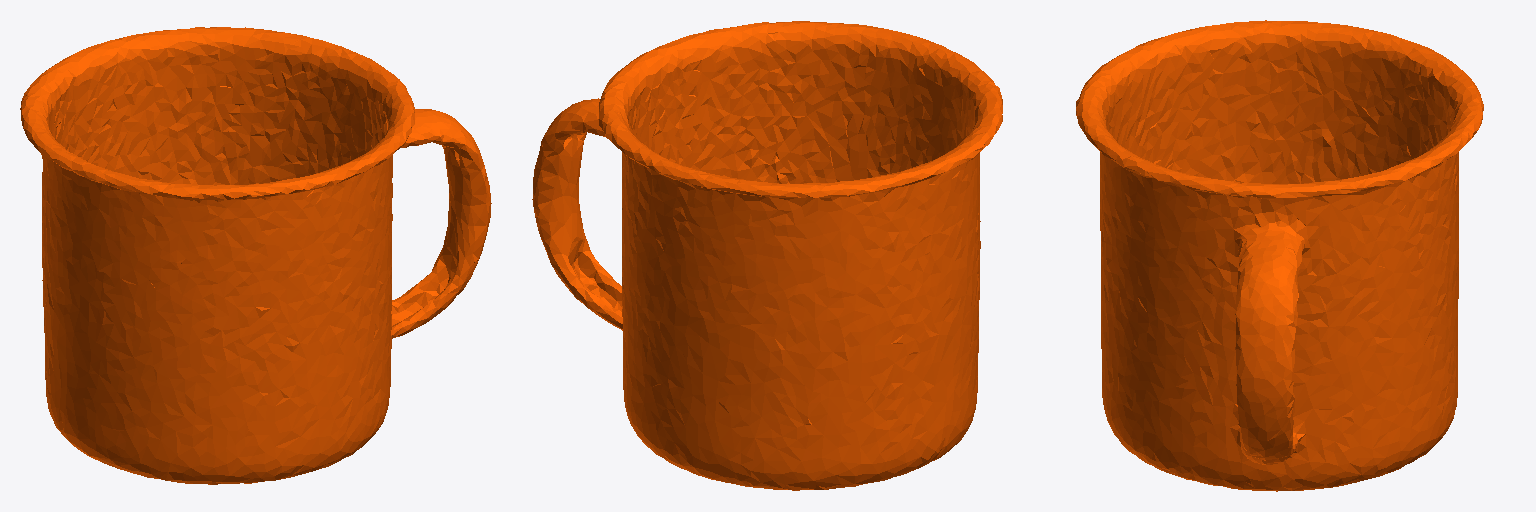
URDF robot description (025_mug):
<?xml version="1.0" ?>
<robot name="025_mug">
   <material name="obj_color">
      <color rgba="1.0 0.423529411765 0.0392156862745 1.0"/>
   </material>
   <link name="top">
      <inertial>
         <origin rpy="0.0002328385352406935 0.0002647386469000025 0.0003388049950386057" xyz="-0.00261733637166038 0.0002863123120637334 -0.01002002822162792"/>
         <mass value="0.270717058661248"/>
         <inertia ixx="0.0002332991407765116" ixy="1.474832763521387e-06" ixz="-6.660118659826137e-06" iyy="0.0002651635701484743" iyz="-5.758515414313419e-06" izz="0.0003379194662543158"/>
      </inertial>
      <visual>
         <origin rpy="0 0 0" xyz="0 0 0"/>
         <geometry>
            <mesh filename="top_watertight_tiny.stl" scale="1 1 1"/>
         </geometry>
         <material name="obj_color"/>
      </visual>
      <collision>
         <origin rpy="0 0 0" xyz="0 0 0"/>
         <geometry>
            <mesh filename="top_watertight_tiny.obj" scale="1 1 1"/>
         </geometry>
      </collision>
   </link>
   <link name="bottom">
      <inertial>
         <origin rpy="1.633333333199431e-08 1.633333333199431e-08 1.633333333362855e-08" xyz="0.3464080000000008 0.3464080000000008 0.3464080000000008"/>
         <mass value="0.0009800000000000017"/>
         <inertia ixx="1.633333333253906e-08" ixy="5.447480642029219e-19" ixz="5.447480642029219e-19" iyy="1.633333333253906e-08" iyz="5.447480642029219e-19" izz="1.633333333253906e-08"/>
      </inertial>
      <visual>
         <origin rpy="0 0 0" xyz="0 0 0"/>
         <geometry>
            <mesh filename="bottom_watertight_tiny.stl" scale="1 1 1"/>
         </geometry>
         <material name="obj_color"/>
      </visual>
   </link>
   <joint name="rotation" type="revolute">
      <origin xyz="0 0 0"/>
      <axis xyz="0 0 -1"/>
      <parent link="bottom"/>
      <child link="top"/>
      <dynamics damping="1.0" friction="1.0"/>
      <limit effort="0.1" velocity="0.1" lower="0" upper="0.001"/>
   </joint>
</robot>

--- What the picture shows (computed from the rendered views, not written in the file) ---
Views: 3 orthographic renders of the robot side by side, from view 1: azimuth 30°, elevation 25°; view 2: azimuth 150°, elevation 25°; view 3: azimuth 270°, elevation 25°.
Model 025_mug with 2 links and 1 joints (1 revolute), rooted at bottom, posed all joints at 0.
Visible links, largest first — view 1: top; view 2: top; view 3: top.
Boxes of the visible links, x1,y1,x2,y2 form: top: (20,27,491,484); top: (532,21,1002,490); top: (1076,20,1483,491).
Size in the robot's own frame: 0.117 by 0.0931 by 0.0813 metres.
Meshes: 2 distinct files referenced, 1 mesh visuals loaded (1 binary STL); not drawn: 1 (reference not matched to a file when rendering).
